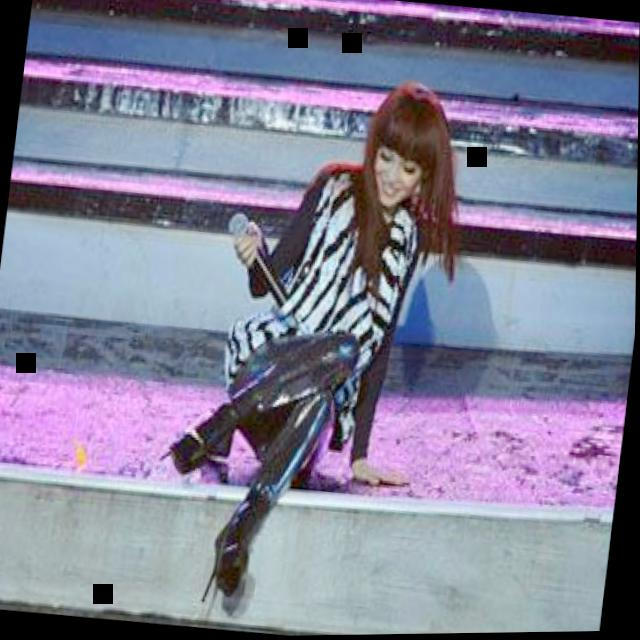Fall-Detected: (138, 58, 492, 629)
